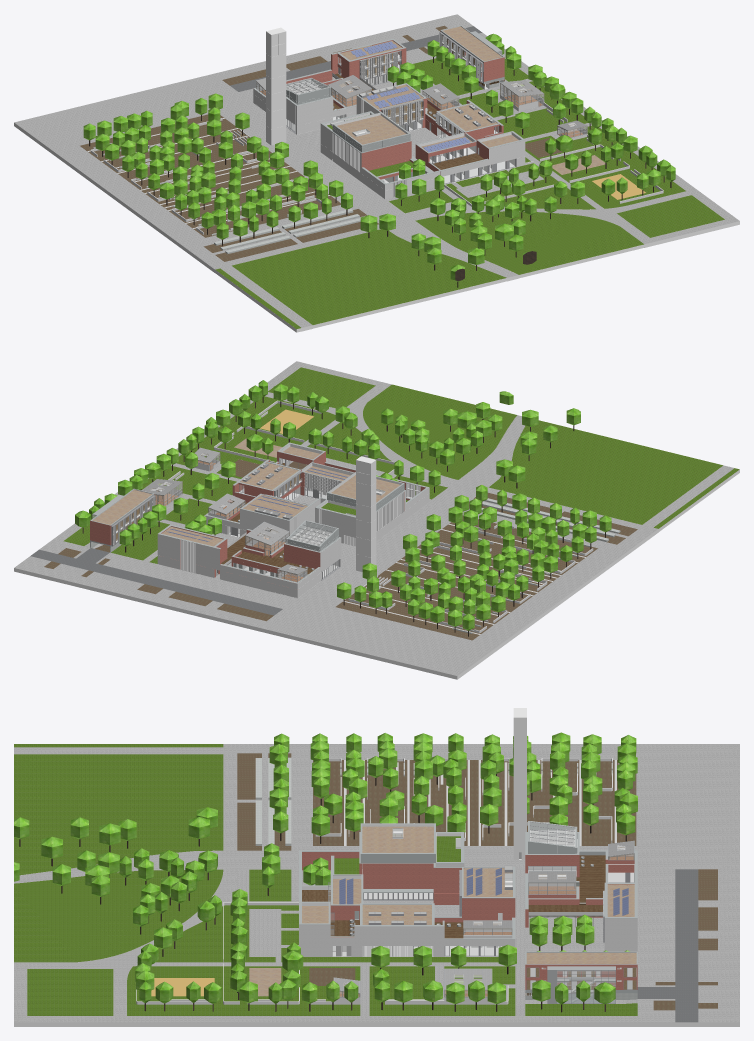
Rendered from USB.glb.
3 views of the same model, one above another, from view 1: azimuth 30°, elevation 25°; view 2: azimuth 150°, elevation 25°; view 3: azimuth 270°, elevation 25° (orthographic). The views are drawn at different scales.
Parts seen in each view (by area): view 1: VisualSceneNode1.15171, VisualSceneNode1.482, VisualSceneNode1.15162, VisualSceneNode1.661, VisualSceneNode1.194, VisualSceneNode1.668, VisualSceneNode1.671, VisualSceneNode1.480, VisualSceneNode1, VisualSceneNode1.196, VisualSceneNode1.206, VisualSceneNode1.195 (+8 smaller); view 2: VisualSceneNode1.482, VisualSceneNode1.15162, VisualSceneNode1.15171, VisualSceneNode1.661, VisualSceneNode1.194, VisualSceneNode1.668, VisualSceneNode1.671, VisualSceneNode1.196, VisualSceneNode1.480, VisualSceneNode1, VisualSceneNode1.26138, VisualSceneNode1.206 (+9 smaller); view 3: VisualSceneNode1.15171, VisualSceneNode1.15162, VisualSceneNode1.482, VisualSceneNode1.661, VisualSceneNode1.194, VisualSceneNode1.671, VisualSceneNode1.480, VisualSceneNode1.668, VisualSceneNode1.196, VisualSceneNode1.26138, VisualSceneNode1.206, VisualSceneNode1 (+9 smaller).
Boxes of the visible parts, x1=… form: VisualSceneNode1.15171: x1=215, y1=58, x2=724, y2=329; VisualSceneNode1.482: x1=83, y1=33, x2=675, y2=287; VisualSceneNode1.15162: x1=14, y1=14, x2=739, y2=327; VisualSceneNode1.661: x1=90, y1=26, x2=663, y2=234; VisualSceneNode1.194: x1=80, y1=25, x2=562, y2=261; VisualSceneNode1.668: x1=255, y1=27, x2=515, y2=196; VisualSceneNode1.671: x1=337, y1=26, x2=605, y2=174; VisualSceneNode1.480: x1=253, y1=25, x2=524, y2=184; VisualSceneNode1: x1=256, y1=32, x2=587, y2=184; VisualSceneNode1.196: x1=14, y1=63, x2=739, y2=332; VisualSceneNode1.206: x1=256, y1=36, x2=586, y2=183; VisualSceneNode1.195: x1=93, y1=80, x2=504, y2=253; VisualSceneNode1.482: x1=75, y1=380, x2=611, y2=636; VisualSceneNode1.15162: x1=14, y1=361, x2=734, y2=675; VisualSceneNode1.15171: x1=63, y1=367, x2=739, y2=563; VisualSceneNode1.661: x1=90, y1=400, x2=593, y2=633; VisualSceneNode1.194: x1=44, y1=459, x2=637, y2=640; VisualSceneNode1.668: x1=93, y1=456, x2=420, y2=598; VisualSceneNode1.671: x1=92, y1=438, x2=399, y2=546; VisualSceneNode1.196: x1=14, y1=444, x2=739, y2=679; VisualSceneNode1.480: x1=90, y1=442, x2=429, y2=583; VisualSceneNode1: x1=92, y1=447, x2=340, y2=582; VisualSceneNode1.26138: x1=30, y1=548, x2=282, y2=615; VisualSceneNode1.206: x1=93, y1=455, x2=383, y2=581; VisualSceneNode1.15171: x1=14, y1=744, x2=637, y2=1015; VisualSceneNode1.15162: x1=14, y1=744, x2=739, y2=1022; VisualSceneNode1.482: x1=14, y1=732, x2=637, y2=1012; VisualSceneNode1.661: x1=136, y1=758, x2=637, y2=1004; VisualSceneNode1.194: x1=237, y1=753, x2=717, y2=1010; VisualSceneNode1.671: x1=249, y1=826, x2=636, y2=996; VisualSceneNode1.480: x1=299, y1=821, x2=637, y2=992; VisualSceneNode1.668: x1=332, y1=708, x2=633, y2=994; VisualSceneNode1.196: x1=14, y1=830, x2=739, y2=1026; VisualSceneNode1.26138: x1=637, y1=869, x2=698, y2=1022; VisualSceneNode1.206: x1=328, y1=822, x2=633, y2=996; VisualSceneNode1: x1=328, y1=821, x2=636, y2=1003.
Size of the model in its own units: 161 by 43.13 by 178.
43 materials, 26 textured.
